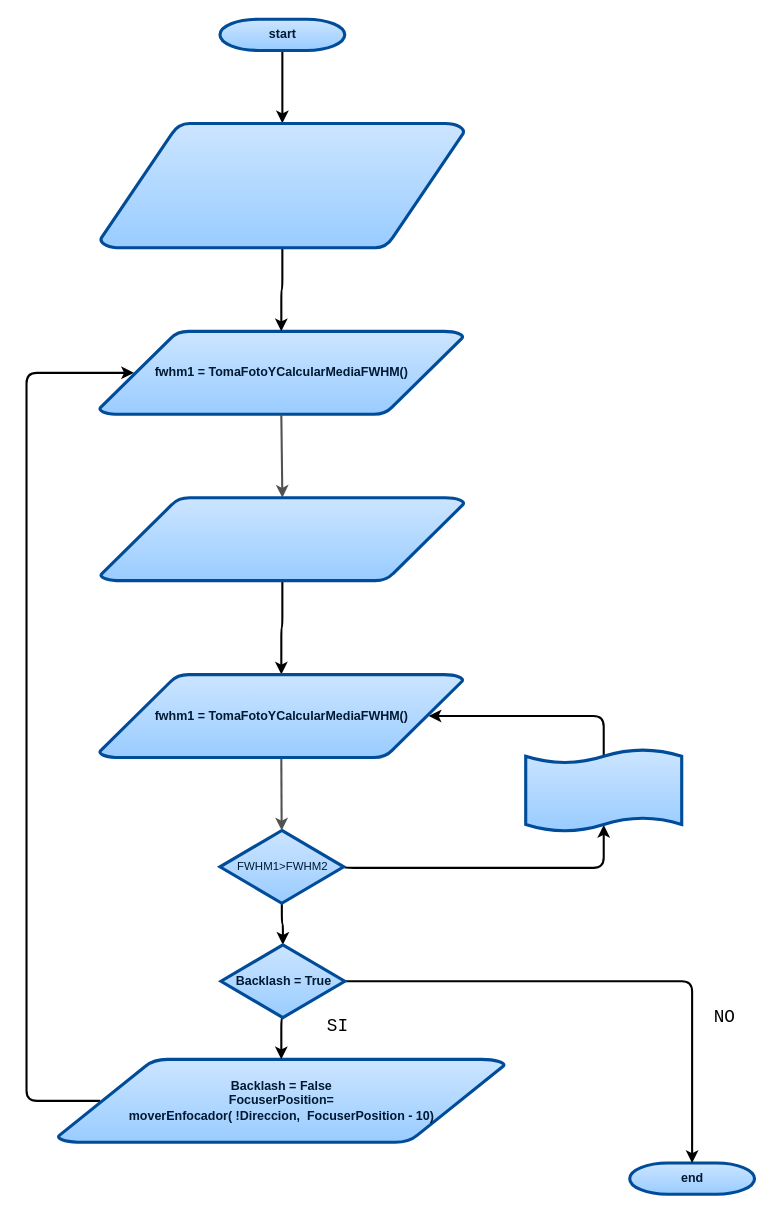
Some shapes in this 774 by 1214 pixel diagram are drawn without their labels. Here are the shapes that lost their labels. From the top down, the centre of each, then its label:
At point (281, 185): "DIRECCION=0 NUMERO_PASOS=1 FocuserPosition = 0 fwhm2 = 0 Backlash = True".
At point (281, 539): "FocuserPosition= moverEnfocador(Direccion, Numero_pasos)".
At point (603, 790): "FWHM2=FWHM1".
